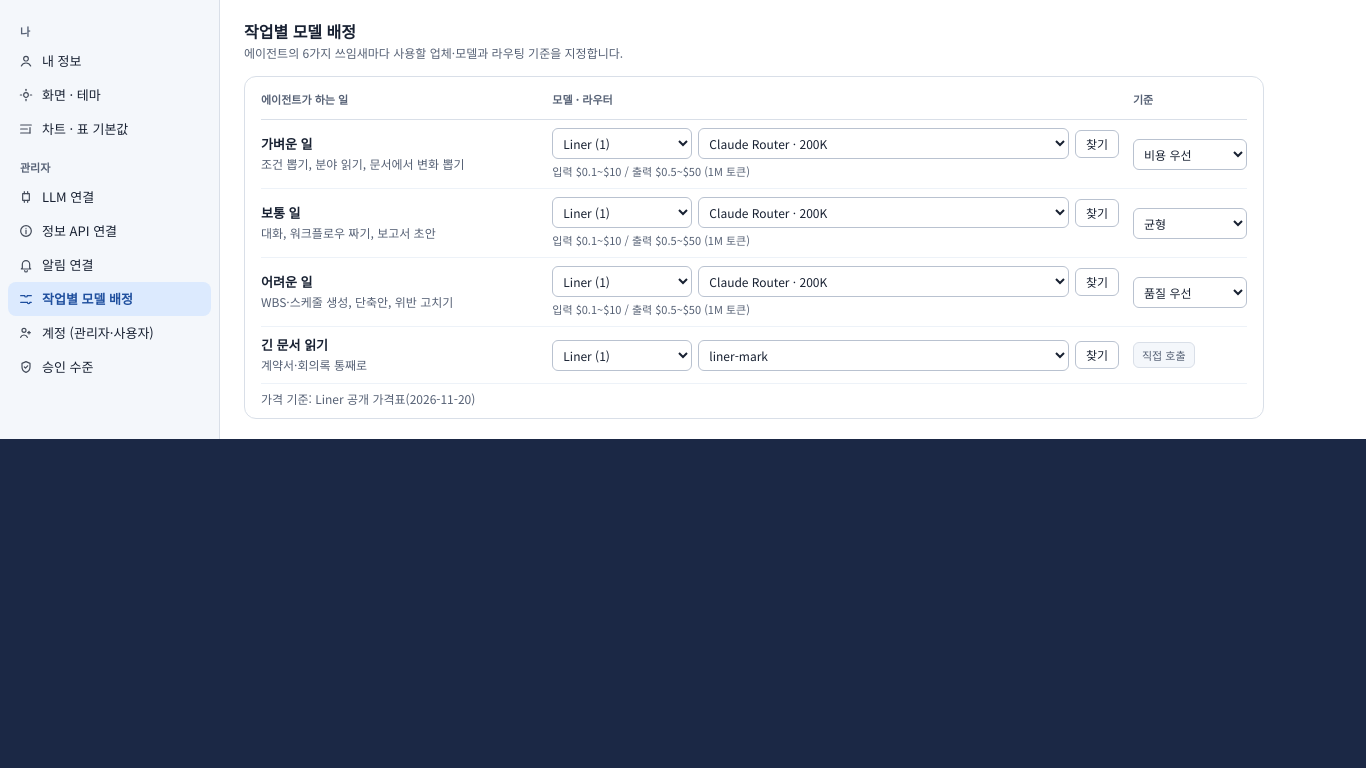
Test: find results carry the price
The width and height of the screenshot is (1366, 768).
Expected: the dropdown named "가벼운 일 업체" is shown, [552,128,692,159]
Click the button with aria-label "가벼운 일 모델 찾기".
click(1097, 144)  # box [1075,130,1119,158]
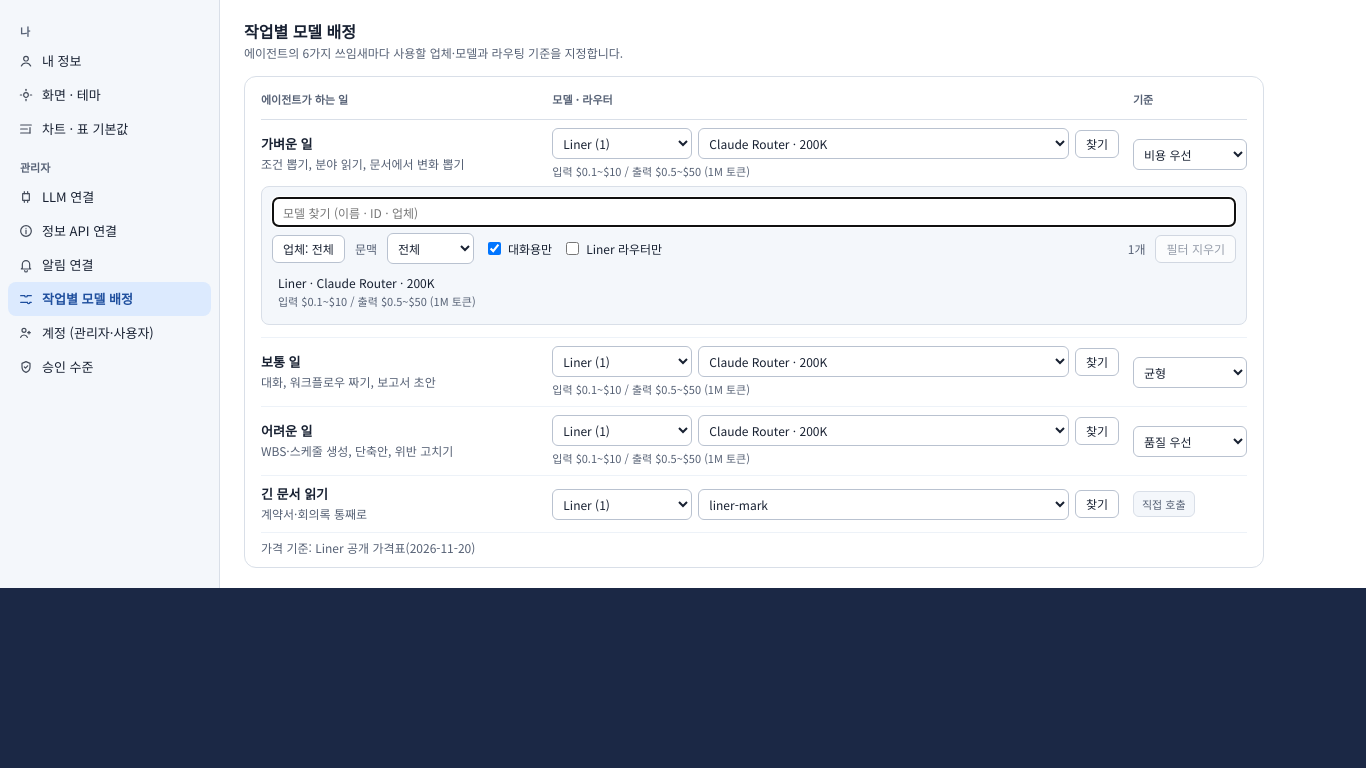
Now the button "Claude Router" shows "입력 $0.1~$10 / 출력 $0.5~$50 (1M 토큰)", box [272,270,1236,314]
